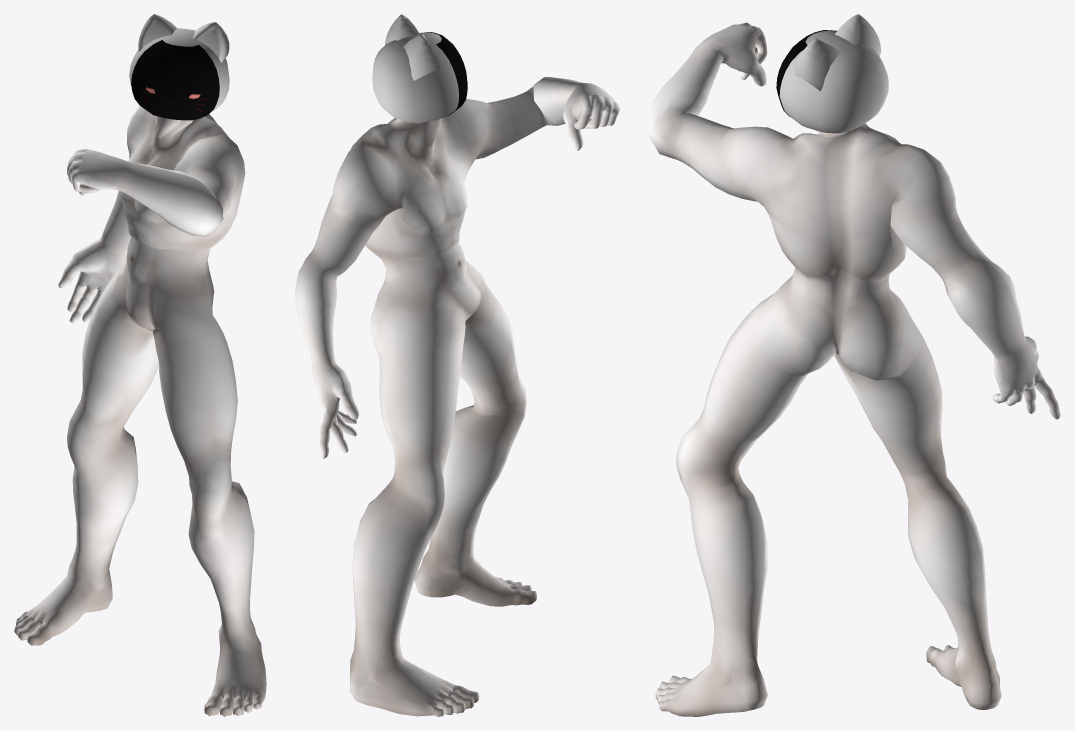
3 views of the same model, side by side, from view 1: azimuth 30°, elevation 25°; view 2: azimuth 150°, elevation 25°; view 3: azimuth 270°, elevation 25° (orthographic). The views are drawn at different scales.
Parts seen in each view (by area): view 1: Muscle_Body, ______?001, Cat_Head; view 2: Muscle_Body, Cat_Head, ______?001; view 3: Muscle_Body, Cat_Head.
Part boxes in pixels (x1,y1,x2,y2): Muscle_Body: (14, 105, 266, 716); ______?001: (131, 40, 219, 120); Cat_Head: (129, 14, 229, 112); Muscle_Body: (295, 77, 620, 716); Cat_Head: (372, 14, 458, 122); ______?001: (424, 32, 467, 115); Muscle_Body: (649, 22, 1060, 716); Cat_Head: (779, 14, 888, 133).
Size of the model in its own units: 10.06 by 28.68 by 15.42.
